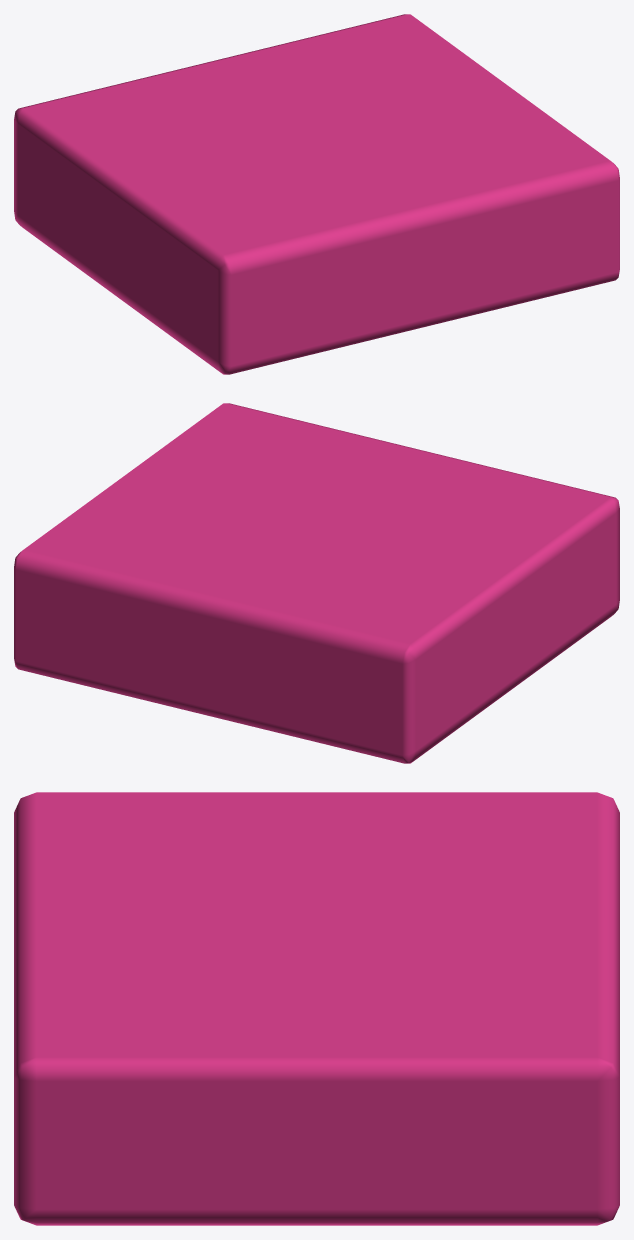
The model's file is platform1.glb.
The picture shows the model from 3 angles, top to bottom: view 1: azimuth 30°, elevation 25°; view 2: azimuth 150°, elevation 25°; view 3: azimuth 270°, elevation 25°; orthographic projection. The views are drawn at different scales.
Visible parts, largest first — view 1: platform; view 2: platform; view 3: platform.
Part boxes in pixels (bbox=[...]): platform: bbox=[14, 14, 619, 374]; platform: bbox=[14, 403, 619, 763]; platform: bbox=[14, 792, 619, 1225].
Bounding box in the file's own units: 1.68 × 0.4836 × 1.58.
